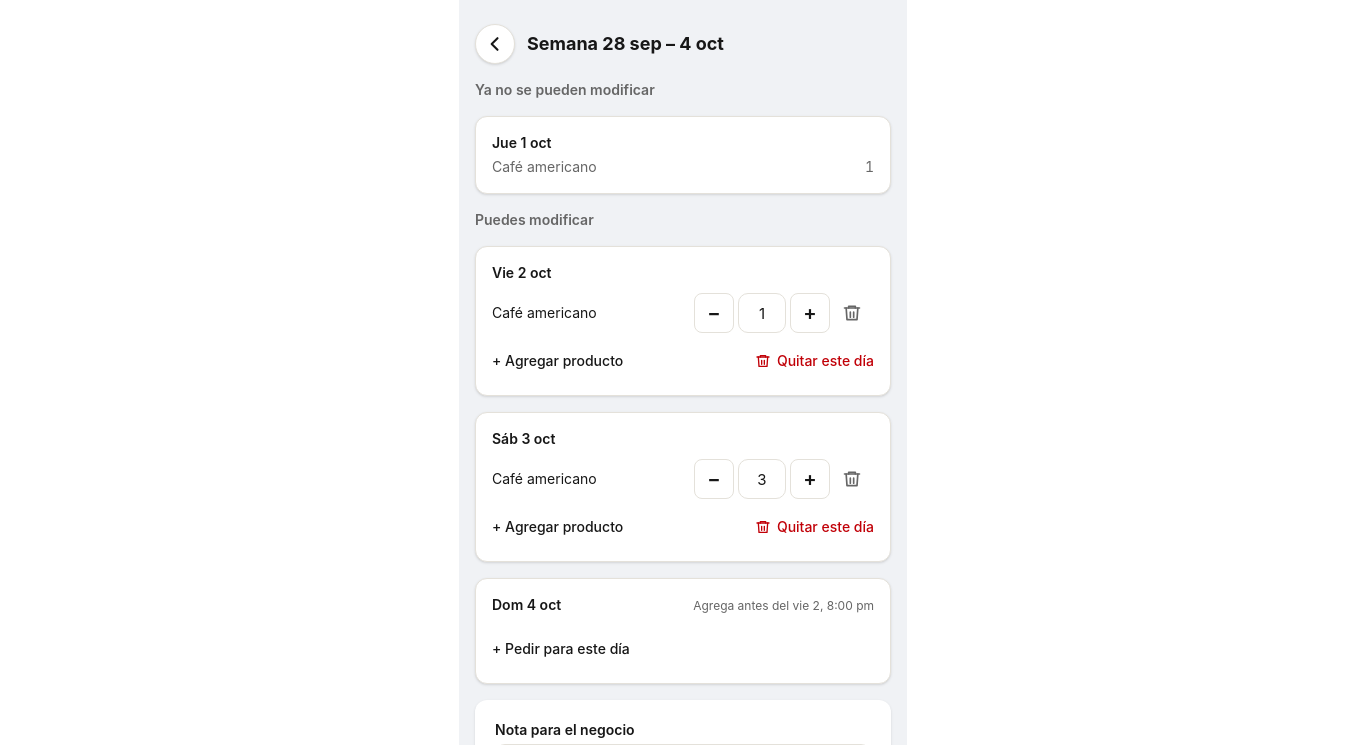
modificar pedido › quitar entrega: singular correcto (1 producto, 1 pieza)
Click the button "Quitar este día" below "Vie 2 oct" at x=814, y=361, box x1=755 y1=351 x2=874 y2=371
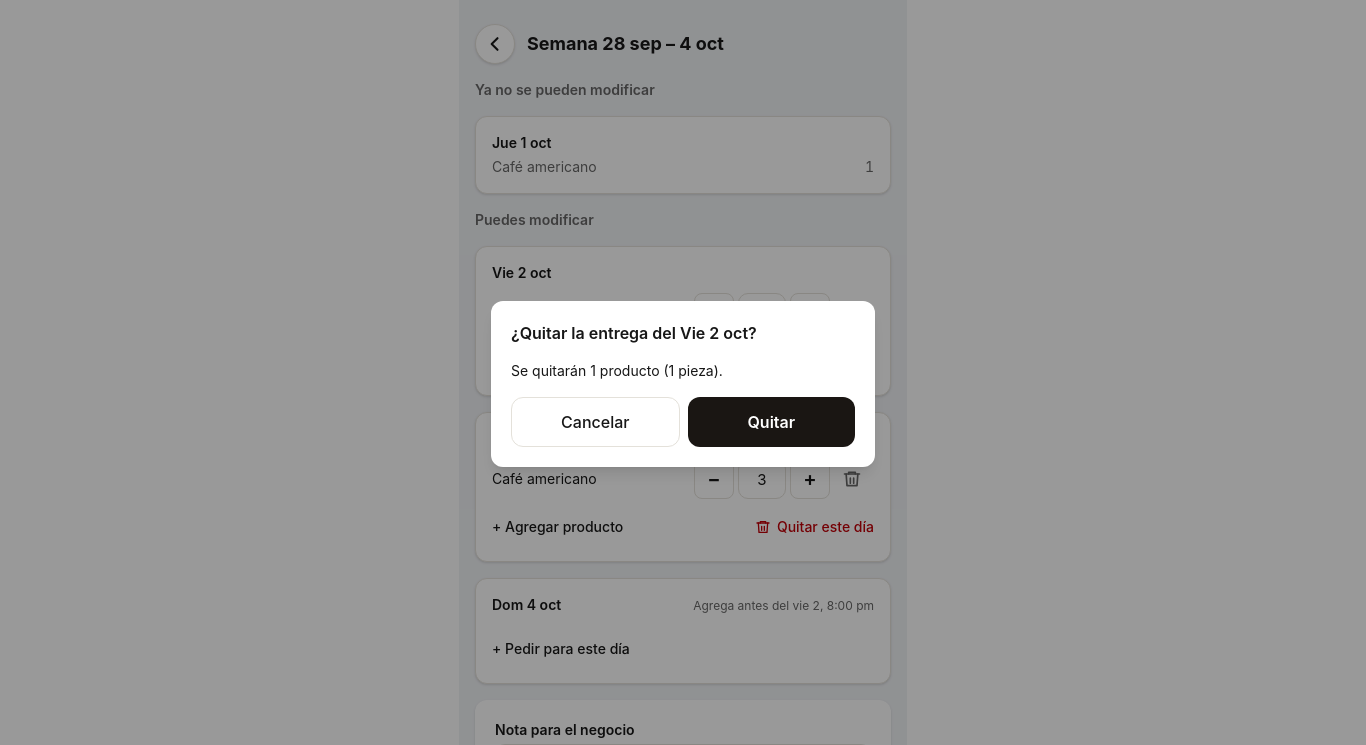
expect the text "Se quitarán 1 producto (1 pieza)." is shown: met, box x1=511 y1=362 x2=723 y2=379
